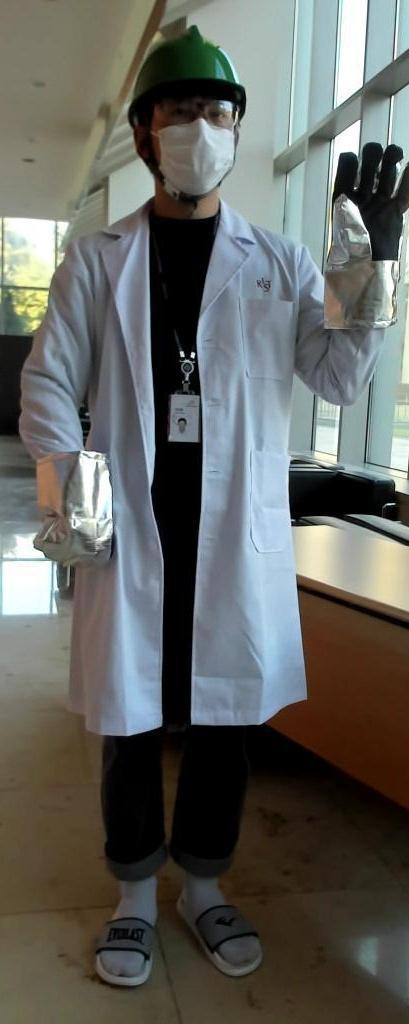lab_coat: (106, 222, 296, 714)
